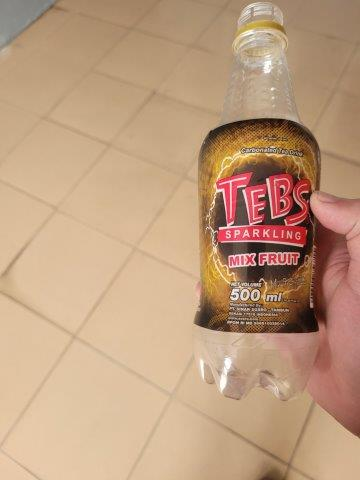botolplastik: (193, 3, 317, 401)
